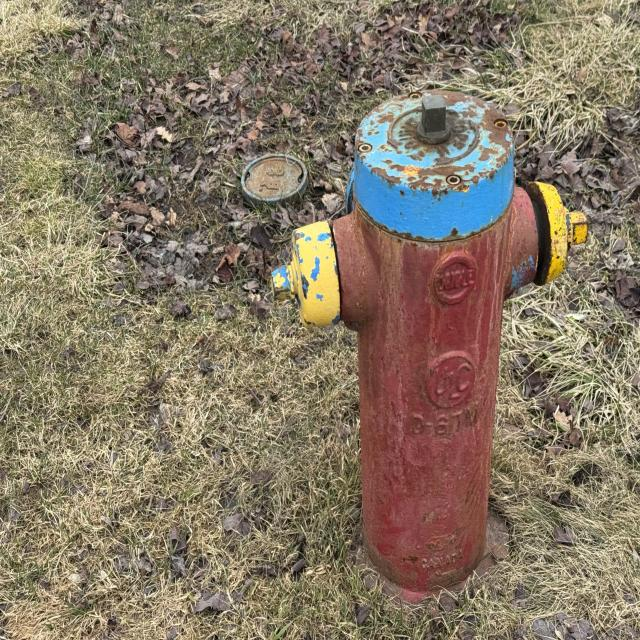Fire hydrant: (267, 88, 589, 615)
